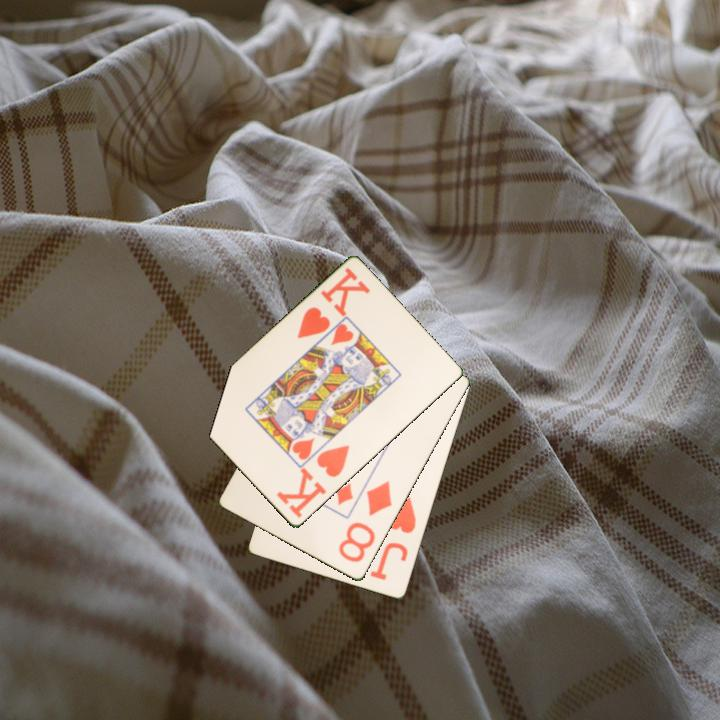8d: (335, 477, 395, 566)
Jh: (367, 493, 419, 584)
Kh: (273, 442, 353, 522), (293, 264, 373, 342)
